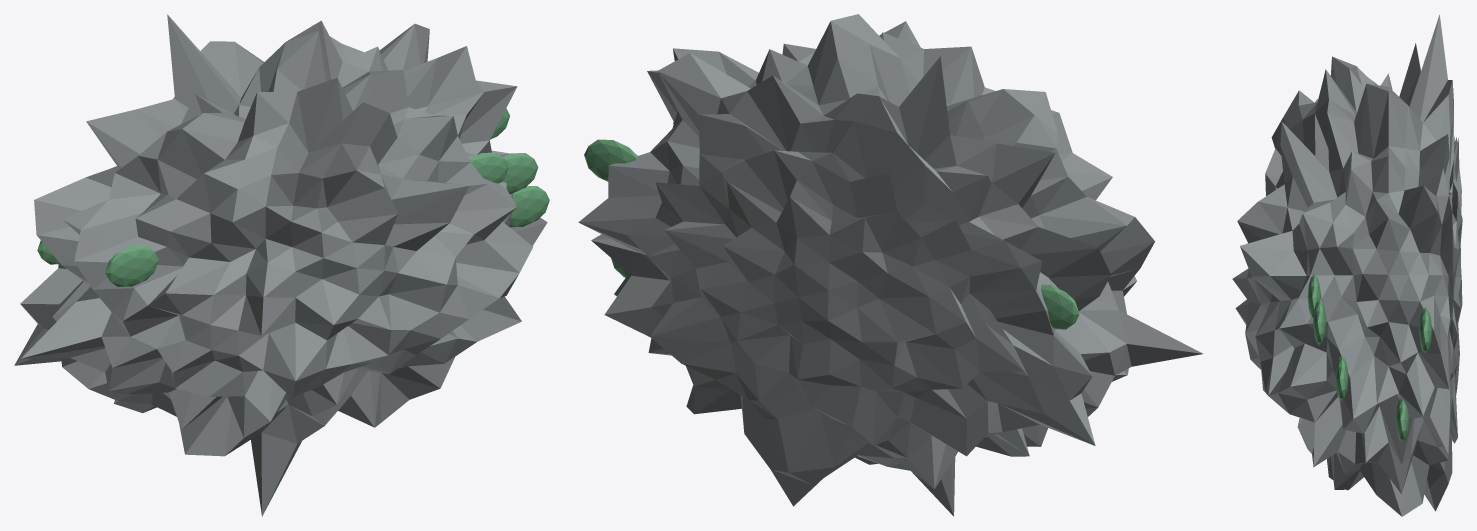
File: Akariz_Rock_Moss_Root_Boulder.glb
3 renders of one model, left to right at view 1: azimuth 30°, elevation 25°; view 2: azimuth 150°, elevation 25°; view 3: azimuth 270°, elevation 25°, orthographic. The views are drawn at different scales.
Visible parts, largest first — view 1: Akariz_Rock_Moss_Root_Boulder, Akariz_Rock_Moss_Root_Boulder_moss5, Akariz_Rock_Moss_Root_Boulder_moss3, Akariz_Rock_Moss_Root_Boulder_moss4, Akariz_Rock_Moss_Root_Boulder_moss7; view 2: Akariz_Rock_Moss_Root_Boulder, Akariz_Rock_Moss_Root_Boulder_moss0, Akariz_Rock_Moss_Root_Boulder_moss8; view 3: Akariz_Rock_Moss_Root_Boulder, Akariz_Rock_Moss_Root_Boulder_moss4, Akariz_Rock_Moss_Root_Boulder_moss0, Akariz_Rock_Moss_Root_Boulder_moss3, Akariz_Rock_Moss_Root_Boulder_moss6, Akariz_Rock_Moss_Root_Boulder_moss7.
Part boxes in pixels (<box>): Akariz_Rock_Moss_Root_Boulder: <box>14,14,547,516</box>; Akariz_Rock_Moss_Root_Boulder_moss5: <box>105,245,158,286</box>; Akariz_Rock_Moss_Root_Boulder_moss3: <box>509,186,549,227</box>; Akariz_Rock_Moss_Root_Boulder_moss4: <box>502,153,538,193</box>; Akariz_Rock_Moss_Root_Boulder_moss7: <box>469,152,508,183</box>; Akariz_Rock_Moss_Root_Boulder: <box>578,14,1203,516</box>; Akariz_Rock_Moss_Root_Boulder_moss0: <box>584,139,637,181</box>; Akariz_Rock_Moss_Root_Boulder_moss8: <box>1041,284,1079,329</box>; Akariz_Rock_Moss_Root_Boulder: <box>1232,15,1462,516</box>; Akariz_Rock_Moss_Root_Boulder_moss4: <box>1313,299,1326,345</box>; Akariz_Rock_Moss_Root_Boulder_moss0: <box>1419,307,1431,353</box>; Akariz_Rock_Moss_Root_Boulder_moss3: <box>1335,356,1348,400</box>; Akariz_Rock_Moss_Root_Boulder_moss6: <box>1396,398,1408,442</box>; Akariz_Rock_Moss_Root_Boulder_moss7: <box>1307,274,1320,318</box>.
Size of the model in its own units: 3.54 by 3.03 by 1.39.
